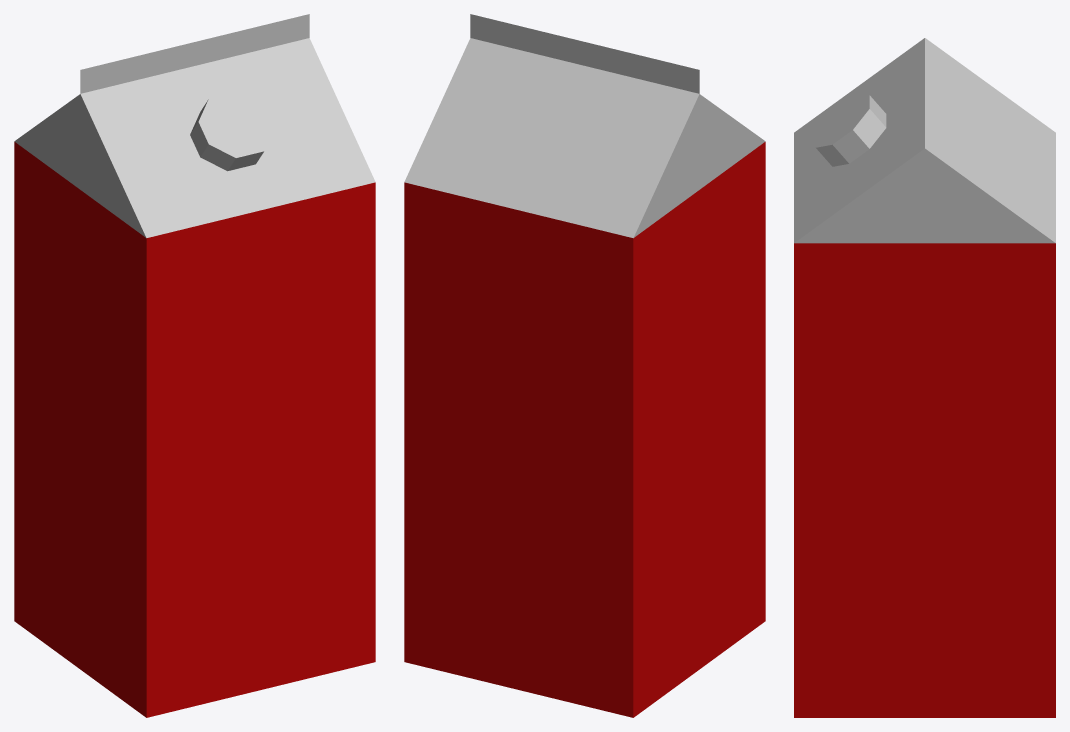
File: Milk.fbx
3 renders of one model, left to right at view 1: azimuth 30°, elevation 25°; view 2: azimuth 150°, elevation 25°; view 3: azimuth 270°, elevation 25°, orthographic.
Visible parts, largest first — view 1: Cube, Cube_1; view 2: Cube, Cube_1; view 3: Cube.
Boxes of the visible parts, x1,y1,x2,y2 form: Cube: (14,14,375,717); Cube_1: (92,17,309,67); Cube: (404,14,765,717); Cube_1: (470,17,687,67); Cube: (794,38,1055,717).
Bounding box in the file's own units: 8 × 20 × 8.
